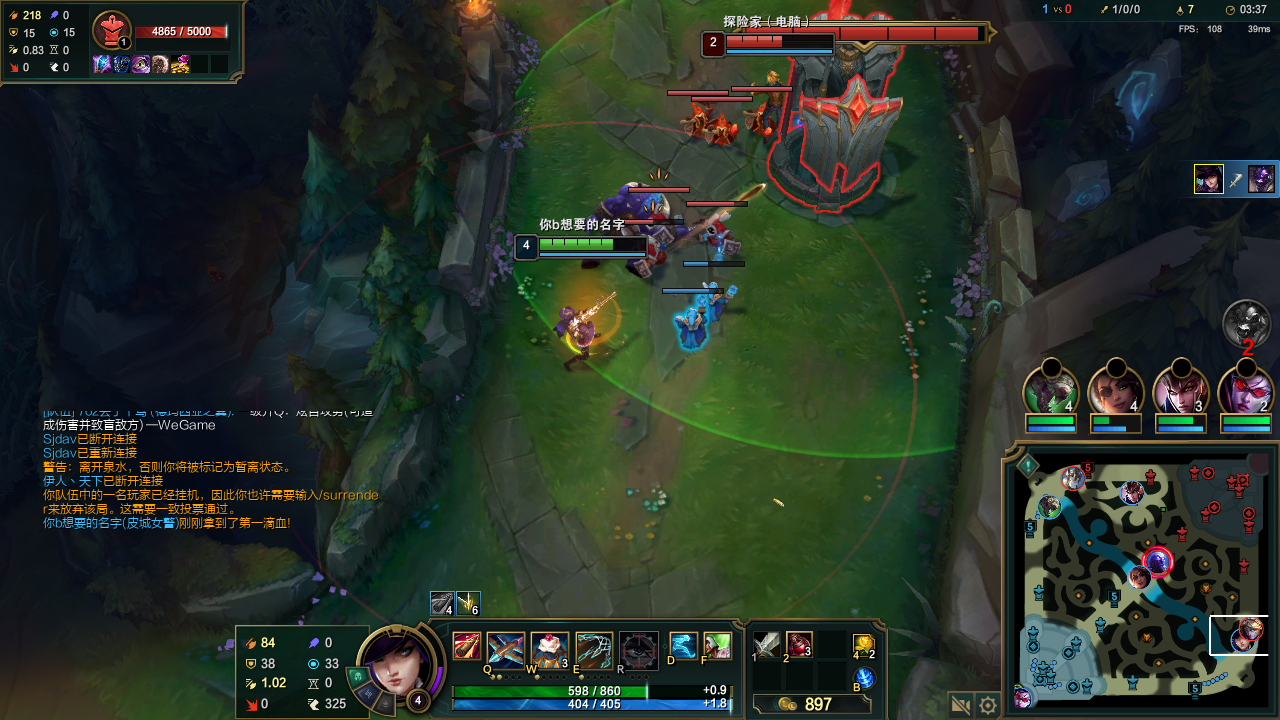DFFYT: (765, 23, 928, 209)
DFXB: (699, 216, 737, 251), (640, 210, 677, 245), (708, 115, 734, 143), (682, 106, 705, 137), (640, 241, 661, 270), (750, 113, 770, 135)
DFYX: (727, 37, 832, 48)
WFXB: (677, 317, 708, 352), (706, 276, 729, 318)
Yita: (1188, 684, 1199, 698)
